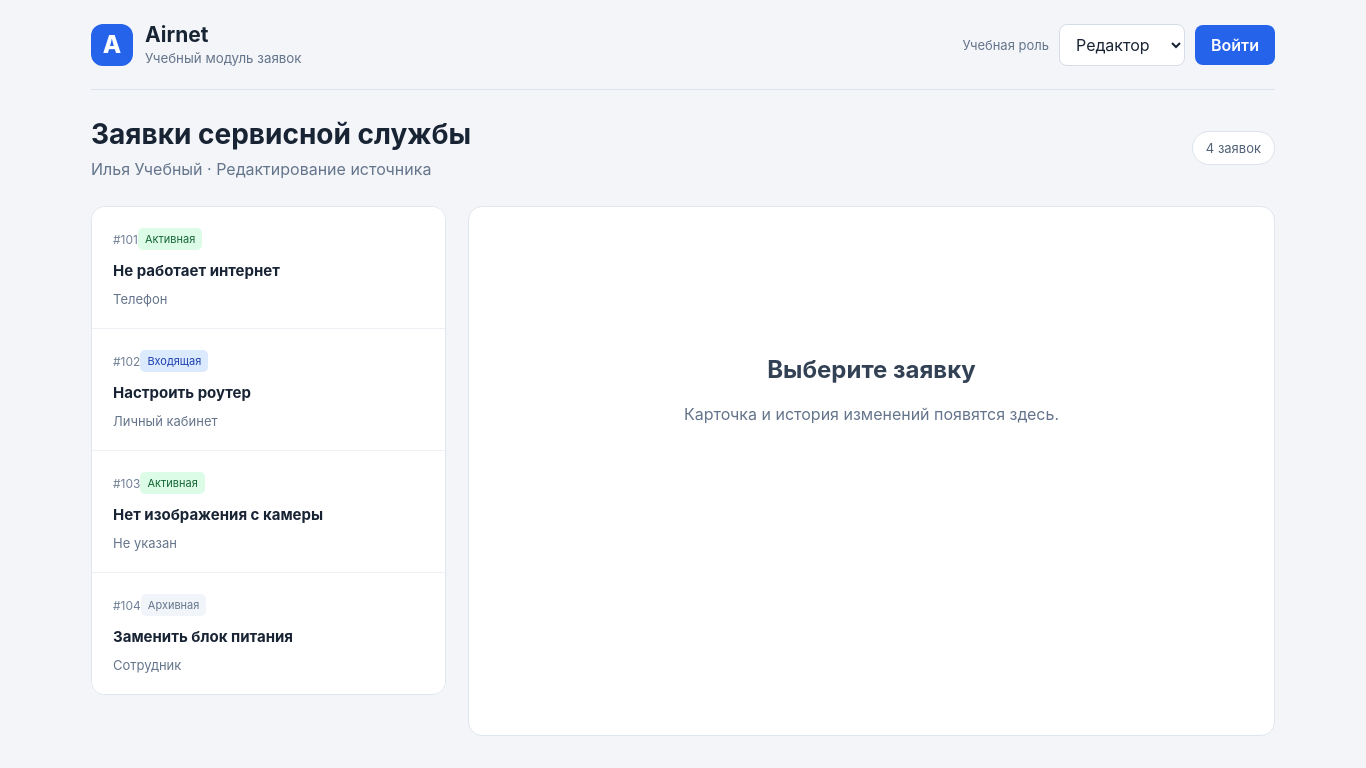
Test: Карточка заявки › пока карточка загружается, данные предыдущей не показываются
The image size is (1366, 768).
Step 1. Click the button "#102 Входящая Настроить роутер Личный кабинет" → (174, 361), box [92,329,445,451]
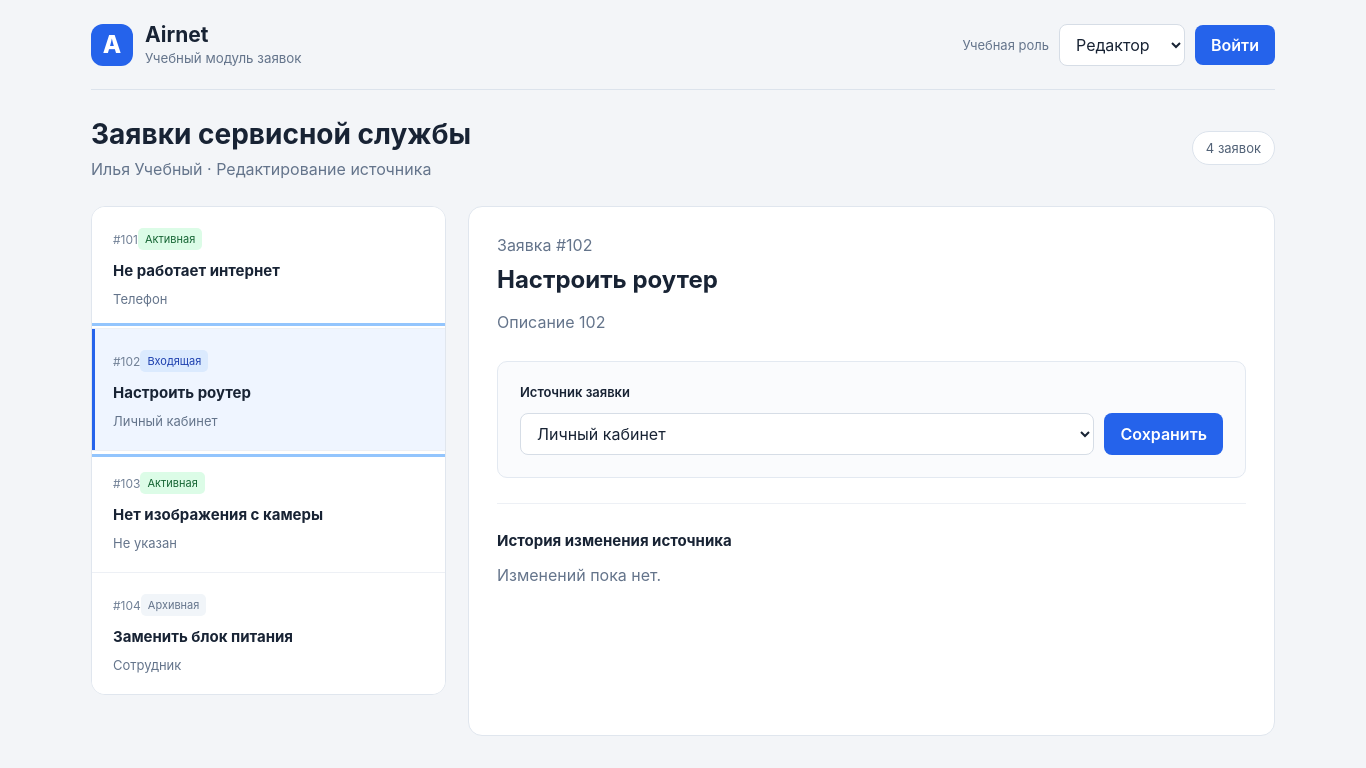
Step 2. Click the button "#101 Активная Не работает интернет Телефон" → (268, 268), box [92,207,445,329]
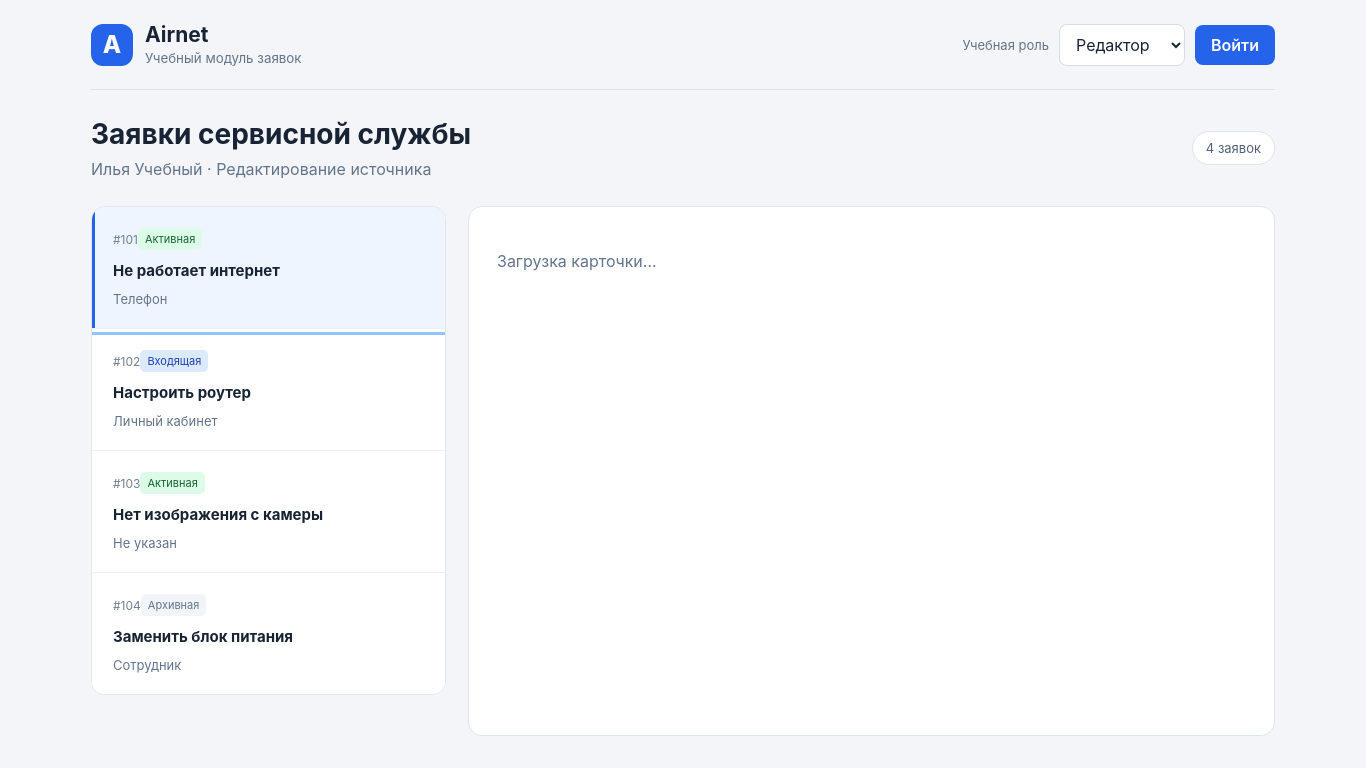
Now the message shows "Загрузка", box [497,251,657,271]
